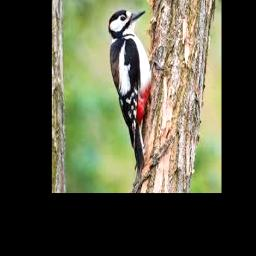Woodpecker: (108, 11, 152, 172)
